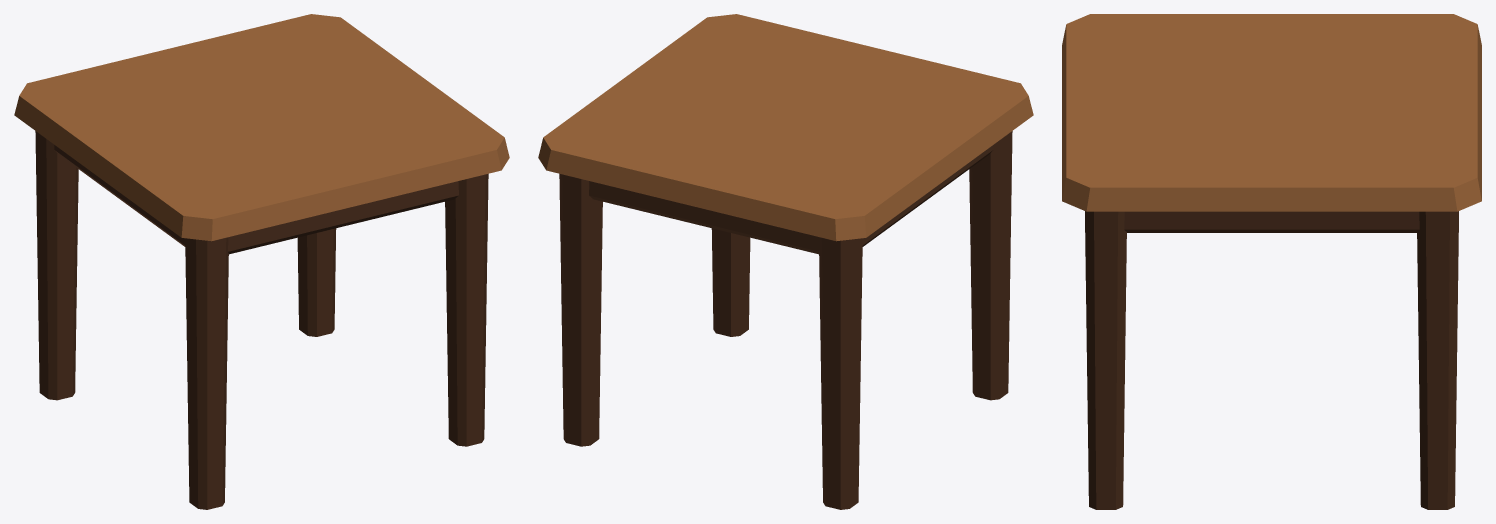
File: table_square.obj
3 views of the same model, side by side, from view 1: azimuth 30°, elevation 25°; view 2: azimuth 150°, elevation 25°; view 3: azimuth 270°, elevation 25° (orthographic). The views are drawn at different scales.
Parts seen in each view (by area): view 1: table_square; view 2: table_square; view 3: table_square.
Part boxes in pixels (left/top/right/bottom): table_square: left=14, top=14, right=509, bottom=509; table_square: left=538, top=14, right=1033, bottom=509; table_square: left=1062, top=14, right=1481, bottom=509.
Size of the model in its own units: 0.86 by 0.75 by 0.86.
